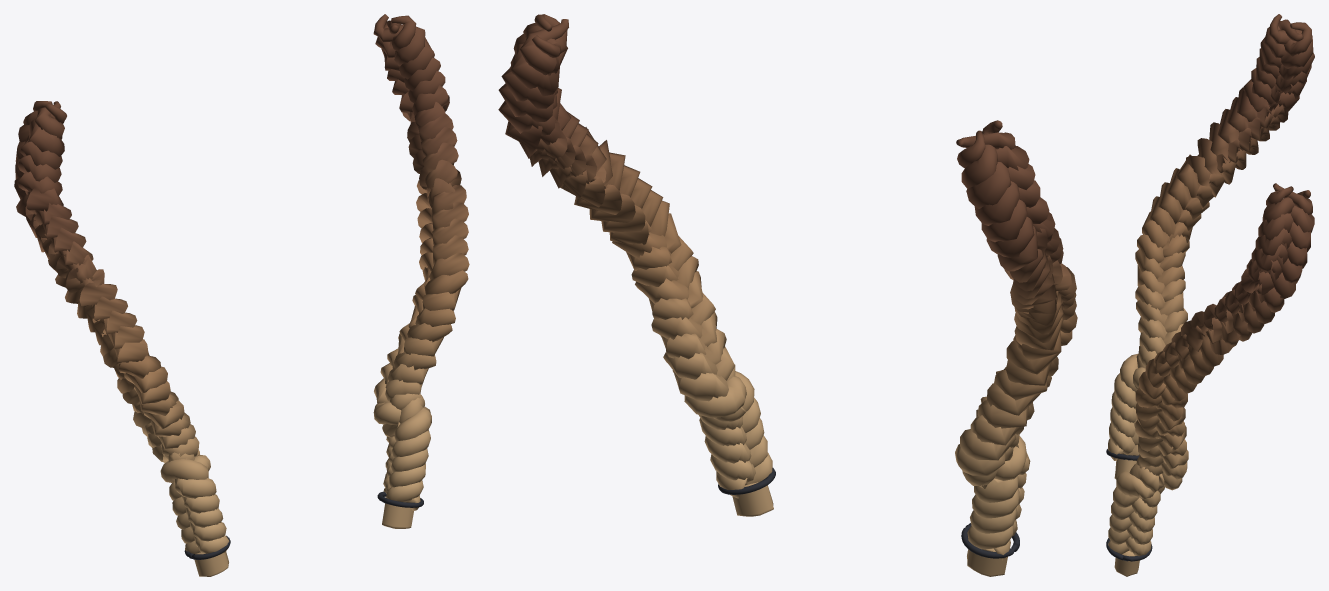
Rendered from Ombre-83bda0f4629a253-hair.glb.
3 views of the same model, side by side, from view 1: azimuth 30°, elevation 25°; view 2: azimuth 150°, elevation 25°; view 3: azimuth 270°, elevation 25° (orthographic). The views are drawn at different scales.
Visible parts, largest first — view 1: 226 hairLengths / Hair / chestnut226, 226 hairLengths / Hair / ties226; view 2: 226 hairLengths / Hair / chestnut226, 226 hairLengths / Hair / ties226; view 3: 226 hairLengths / Hair / chestnut226, 226 hairLengths / Hair / ties226.
Boxes of the visible parts, bbox=[...] form: 226 hairLengths / Hair / chestnut226: bbox=[14, 14, 469, 576]; 226 hairLengths / Hair / ties226: bbox=[184, 491, 423, 559]; 226 hairLengths / Hair / chestnut226: bbox=[498, 14, 1077, 576]; 226 hairLengths / Hair / ties226: bbox=[718, 468, 1019, 558]; 226 hairLengths / Hair / chestnut226: bbox=[1108, 14, 1314, 576]; 226 hairLengths / Hair / ties226: bbox=[1106, 449, 1152, 561].
Size of the model in its own units: 1.09 by 1.06 by 0.4676.
Materials: 2 (1 with a texture image).
